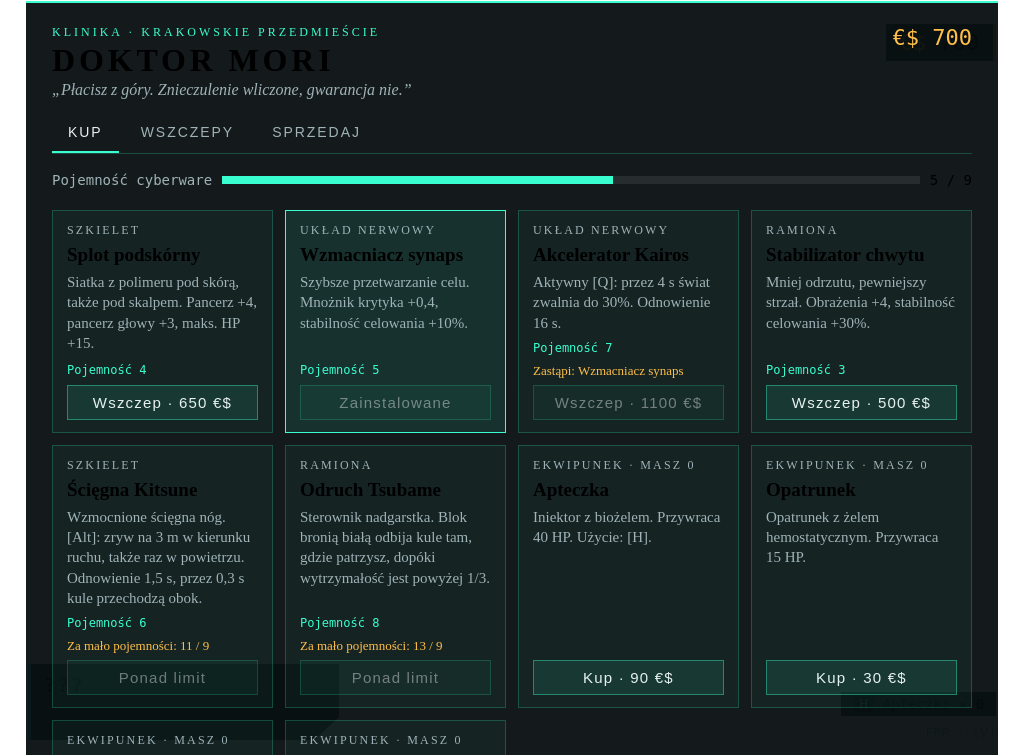
Test: shops and bags in both languages › the clinic in Polish, with Polish thousands
expect the button "Wszczep · 1100 €$" is shown: met, box [533,385,724,420]
expect the text "Zastąpi: Wzmacniacz synaps" is shown: met, box [533,363,684,378]
Click the tab with test id "shop-tab-implants": point(187, 133) [125,113,250,153]
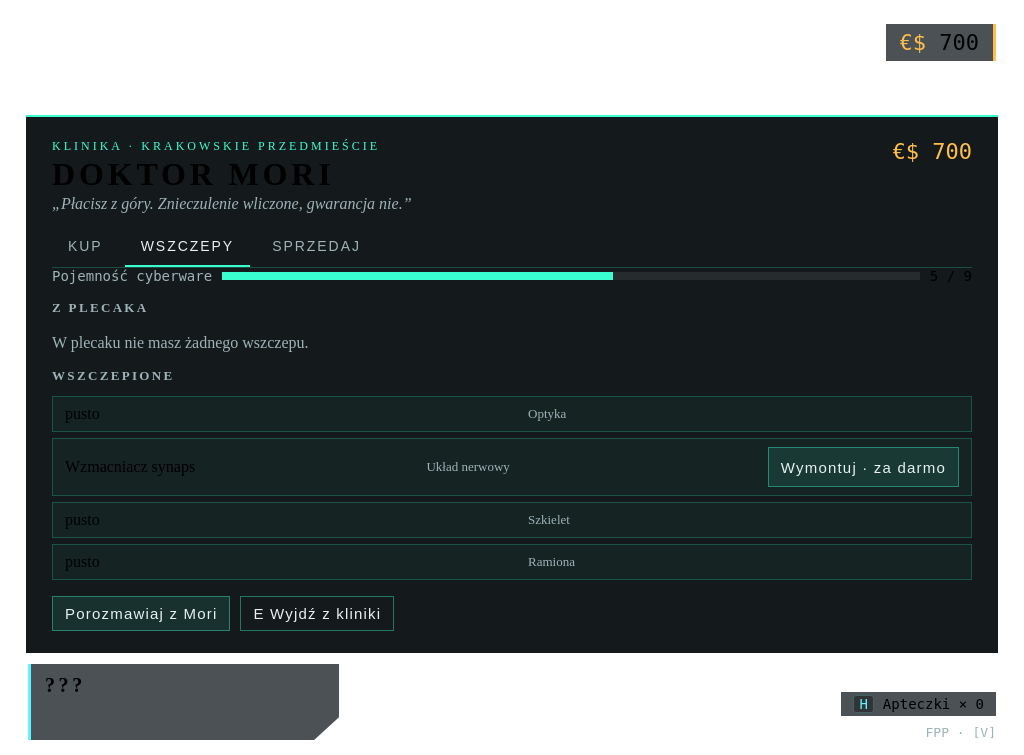
expect the heading "Z plecaka" is shown: met, box [52,300,148,315]
expect the text "W plecaku nie masz żadnego wszczepu." is shown: met, box [52,334,308,351]
expect the button "Wymontuj · za darmo" is shown: met, box [768,447,959,487]
